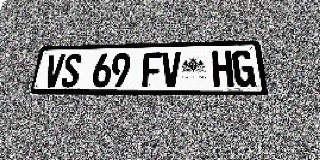6: (92, 53, 113, 87)
9: (110, 53, 131, 87)
F: (142, 52, 162, 87)
G: (232, 50, 256, 87)
H: (212, 51, 234, 87)
S: (60, 54, 82, 87)
V: (43, 54, 65, 87), (161, 52, 181, 87)
